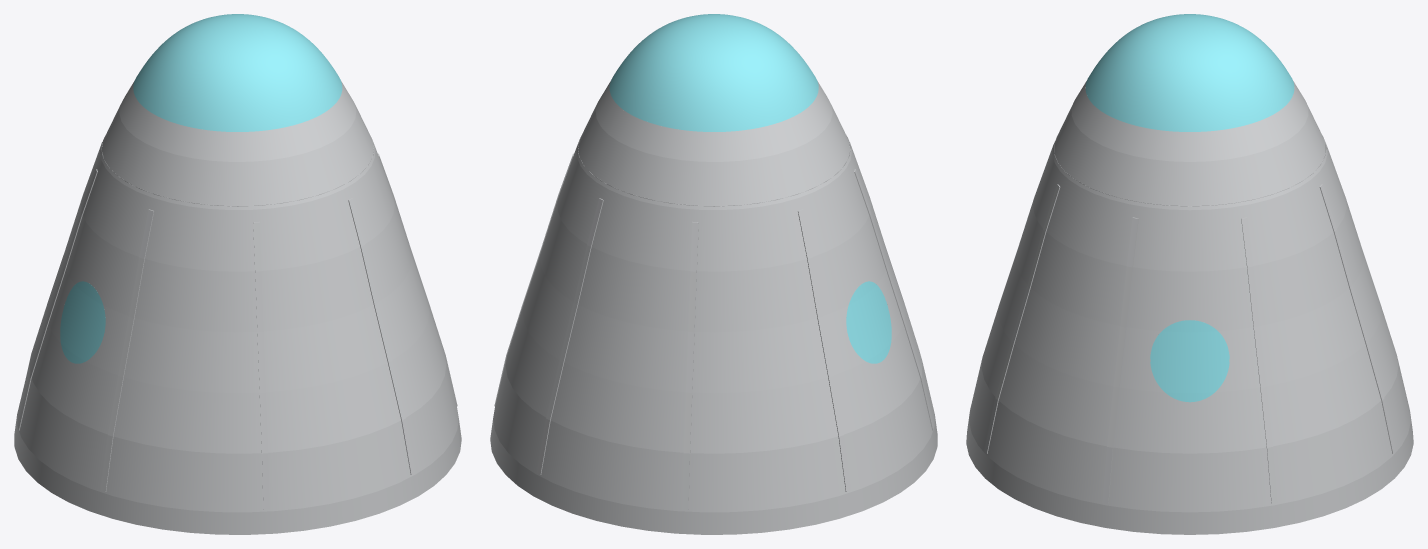
File: nave.glb
The picture shows the model from 3 angles, left to right: view 1: azimuth 30°, elevation 25°; view 2: azimuth 150°, elevation 25°; view 3: azimuth 270°, elevation 25°; orthographic projection.
Visible parts, largest first — view 1: Diseño de nave con ventanas SLDPRT; view 2: Diseño de nave con ventanas SLDPRT; view 3: Diseño de nave con ventanas SLDPRT.
Part boxes in pixels (x1=…): Diseño de nave con ventanas SLDPRT: x1=14, y1=14, x2=461, y2=534; Diseño de nave con ventanas SLDPRT: x1=490, y1=14, x2=937, y2=534; Diseño de nave con ventanas SLDPRT: x1=966, y1=14, x2=1413, y2=534.
Bounding box in the file's own units: 3.04 × 3.17 × 3.04.
